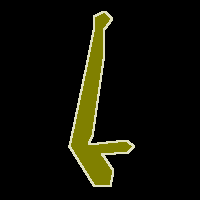tie: (69, 11, 134, 186)
